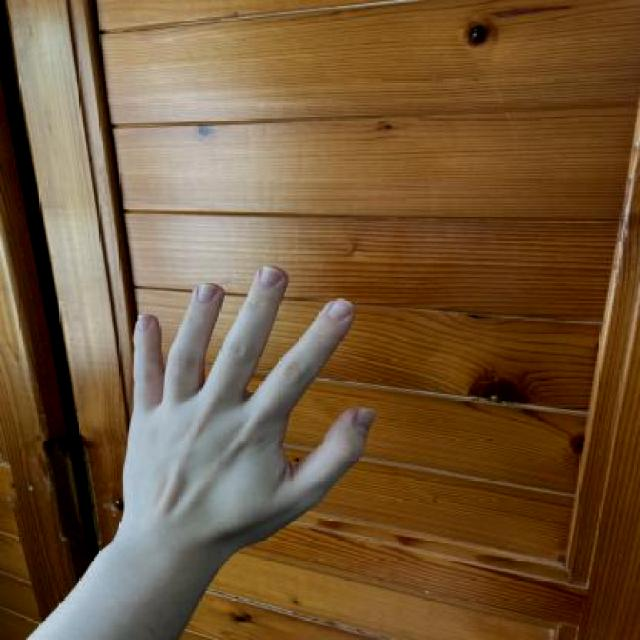no_glove: (87, 252, 388, 566)
